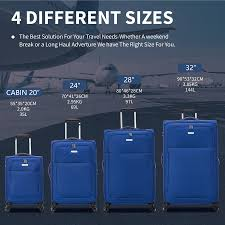suitcase: (160, 108, 221, 212), (98, 107, 158, 210), (47, 118, 101, 214), (1, 135, 47, 212)
